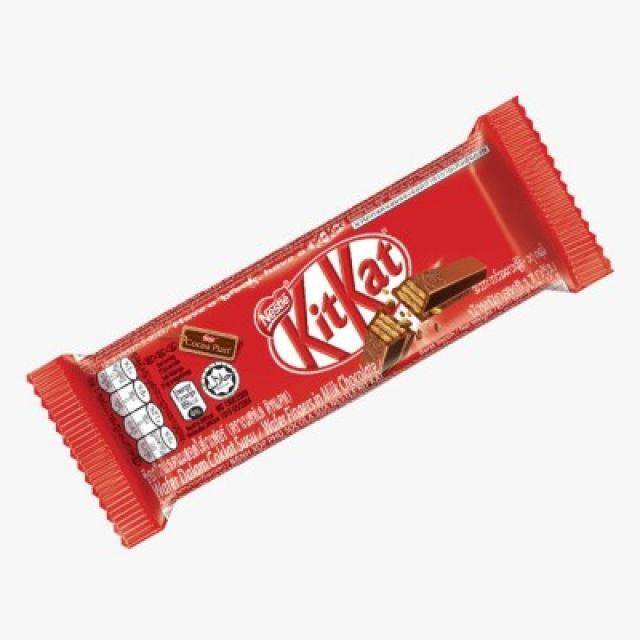kitkat: (28, 95, 614, 550)
